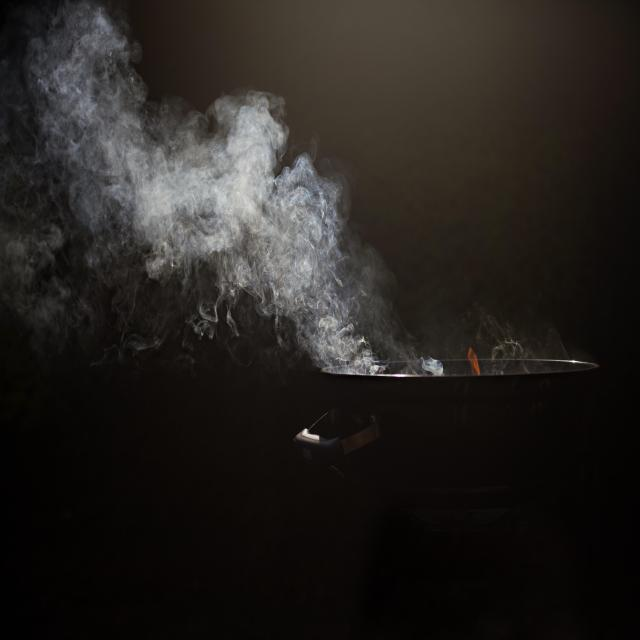Smoke: (67, 44, 391, 368)
